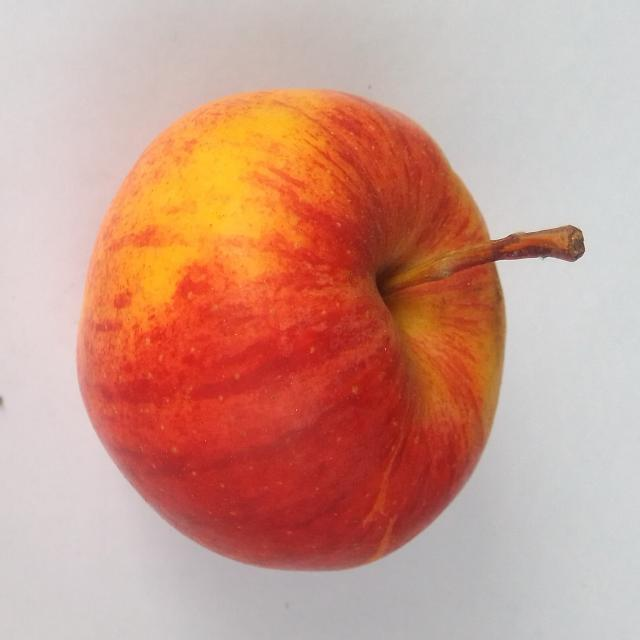Fresh Apple: (86, 88, 526, 582)
